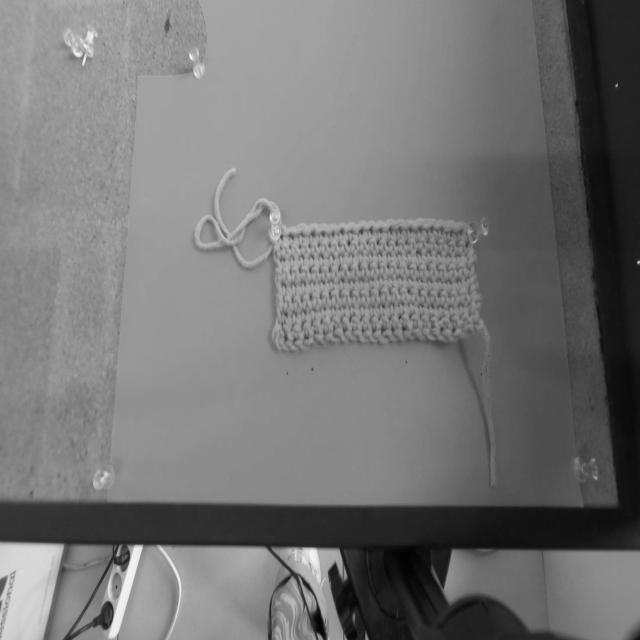ch: (430, 329, 449, 342), (353, 331, 370, 343), (334, 331, 351, 342), (421, 328, 436, 340), (383, 331, 400, 341), (442, 329, 456, 341), (278, 339, 290, 352), (453, 330, 470, 339), (326, 333, 341, 343), (414, 331, 428, 341), (364, 332, 378, 342), (392, 331, 407, 340), (402, 330, 416, 339), (375, 333, 389, 342), (295, 340, 309, 349), (285, 342, 300, 350), (345, 332, 359, 340), (315, 336, 329, 343), (305, 338, 319, 344)
sc: (457, 252, 470, 280), (410, 221, 426, 242), (282, 316, 294, 343), (400, 221, 415, 242), (379, 306, 391, 332), (291, 317, 305, 339), (359, 281, 371, 306), (291, 227, 306, 247), (421, 221, 435, 242), (442, 222, 456, 243), (380, 281, 392, 305), (311, 311, 323, 335), (429, 310, 443, 330), (359, 309, 371, 332), (341, 307, 352, 332), (322, 308, 333, 332), (408, 258, 420, 280), (302, 286, 312, 312), (353, 223, 366, 243), (370, 307, 381, 330), (390, 280, 401, 303), (437, 234, 449, 255), (382, 221, 394, 242), (370, 281, 380, 306), (311, 285, 321, 310), (321, 284, 331, 309), (325, 226, 338, 245), (378, 256, 389, 278), (428, 234, 439, 256), (439, 289, 451, 309), (430, 275, 442, 295), (310, 238, 322, 258), (392, 222, 404, 242), (432, 222, 444, 242), (452, 224, 465, 242), (390, 309, 401, 330), (399, 282, 410, 303), (303, 314, 313, 337), (441, 310, 453, 329), (447, 260, 459, 279), (369, 255, 379, 277), (341, 287, 352, 307), (282, 238, 292, 260), (400, 312, 412, 330), (283, 279, 295, 297), (315, 226, 327, 244), (363, 223, 375, 241), (331, 285, 341, 306), (373, 222, 383, 243), (311, 265, 322, 284), (339, 237, 350, 256), (330, 316, 343, 332), (410, 313, 423, 329), (451, 310, 463, 327), (437, 264, 449, 281), (294, 288, 303, 310), (390, 299, 401, 317), (411, 273, 422, 291), (359, 261, 370, 279), (350, 262, 361, 280), (300, 265, 311, 283), (291, 262, 300, 284), (460, 309, 472, 325), (421, 247, 431, 266), (419, 233, 429, 252), (458, 236, 468, 255), (320, 238, 330, 257), (430, 285, 439, 306), (430, 257, 439, 278), (465, 248, 474, 269), (422, 299, 433, 316), (421, 312, 432, 329), (409, 287, 420, 304), (419, 263, 430, 280), (389, 261, 400, 278), (320, 265, 331, 282), (369, 236, 380, 253), (343, 226, 354, 243), (332, 301, 342, 319), (350, 300, 360, 318), (351, 285, 360, 305), (340, 263, 350, 281), (330, 237, 340, 255), (303, 227, 313, 245), (460, 288, 471, 304), (277, 275, 285, 297), (362, 248, 373, 264), (411, 249, 422, 265), (448, 237, 459, 253), (295, 307, 304, 326), (382, 298, 391, 317), (296, 277, 305, 296), (305, 276, 314, 295), (354, 274, 363, 293), (281, 266, 290, 285), (343, 249, 352, 268), (449, 289, 459, 306), (284, 295, 294, 312), (383, 272, 393, 289), (422, 275, 432, 292), (450, 277, 460, 294), (400, 262, 410, 279), (323, 250, 333, 267), (333, 249, 343, 266), (398, 239, 408, 256), (359, 236, 369, 253), (463, 301, 474, 316), (419, 290, 430, 305), (390, 250, 401, 265), (388, 238, 399, 253), (378, 239, 389, 254), (334, 227, 345, 242), (350, 312, 359, 330), (362, 302, 371, 320), (400, 298, 409, 316), (461, 274, 470, 292), (440, 248, 449, 266), (301, 238, 310, 256), (291, 239, 300, 257), (414, 300, 424, 316), (331, 265, 341, 281), (276, 251, 284, 271), (313, 251, 323, 267), (442, 277, 451, 294), (304, 252, 313, 269), (353, 248, 362, 265), (402, 249, 411, 266), (351, 236, 360, 253), (304, 304, 312, 323), (461, 224, 469, 243), (312, 304, 322, 319), (442, 302, 452, 317), (372, 301, 380, 319), (433, 301, 442, 317), (287, 309, 296, 325), (402, 274, 411, 290), (372, 248, 381, 264), (322, 304, 332, 318), (343, 276, 353, 290), (450, 251, 460, 265), (315, 278, 324, 293), (334, 276, 343, 291), (374, 274, 382, 290), (454, 302, 463, 316), (277, 305, 284, 323), (407, 239, 418, 250), (344, 300, 350, 320), (364, 275, 372, 290), (393, 273, 401, 288), (295, 253, 303, 268), (286, 255, 294, 268), (382, 250, 390, 263), (325, 277, 332, 291)
